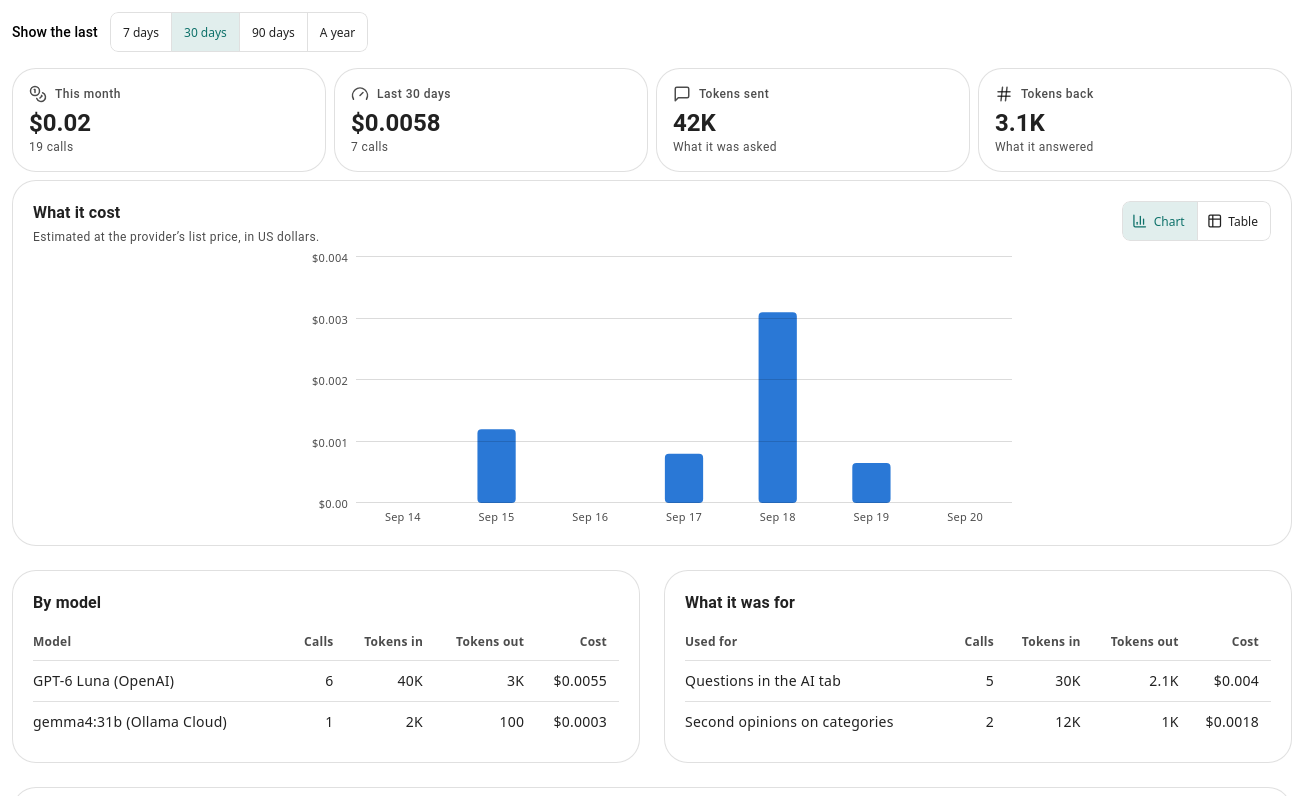
Test: UsagePanel › keeps what it has when a later range can’t be loaded
What coordinates should you click on to do the following:
click the button "7 days"
I would click on:
 (141, 32)
Its box is [110,12,172,52].
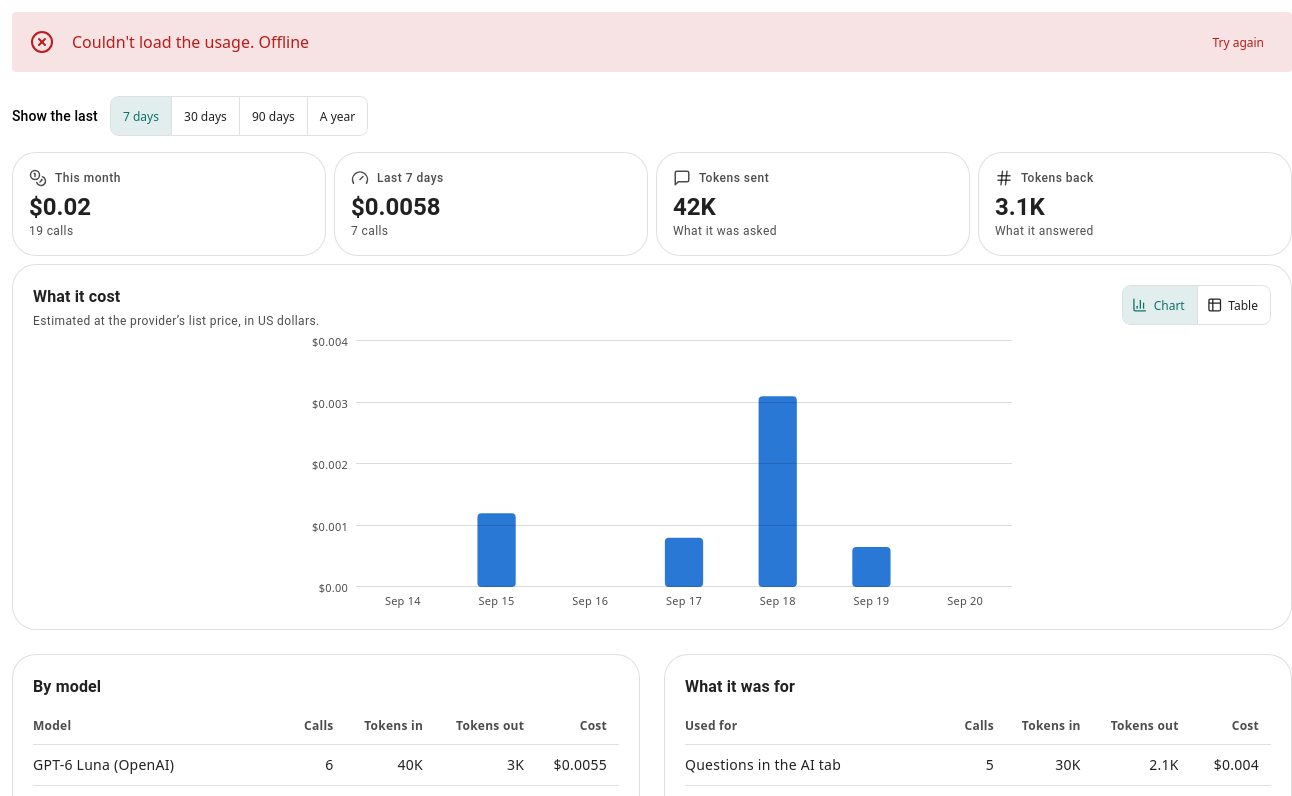
Check: the element with test id "usage-tile-month" is shown, box [12,152,326,256]
Check: the element with test id "usage-error" shows "Offline", box [72,31,309,53]
